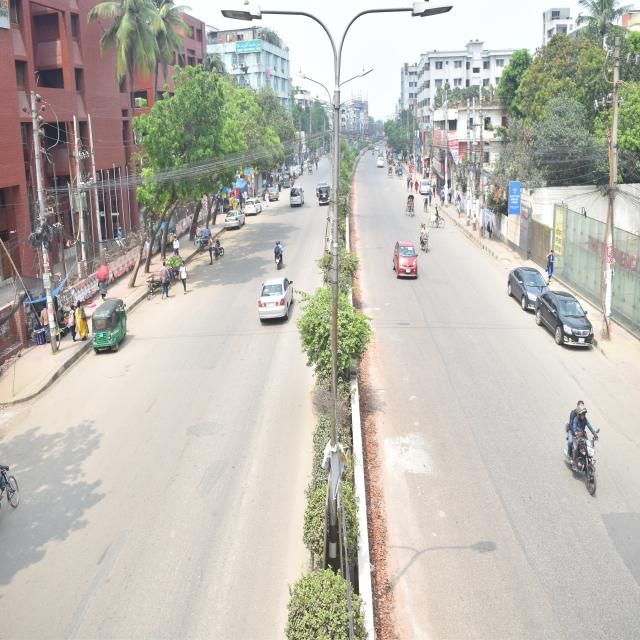car: (532, 287, 600, 354), (255, 272, 298, 329), (506, 263, 552, 306), (389, 238, 422, 285), (288, 182, 308, 215), (221, 208, 248, 231), (314, 184, 334, 209), (416, 177, 435, 198), (245, 196, 262, 219), (266, 185, 281, 202)
motorbike: (565, 406, 603, 499), (209, 234, 230, 264), (270, 241, 288, 270), (418, 221, 431, 255)
